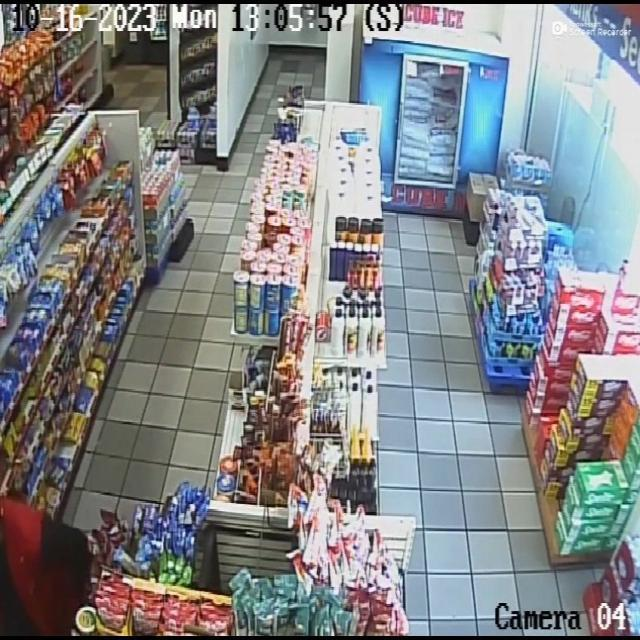Normal: (0, 471, 90, 640)
